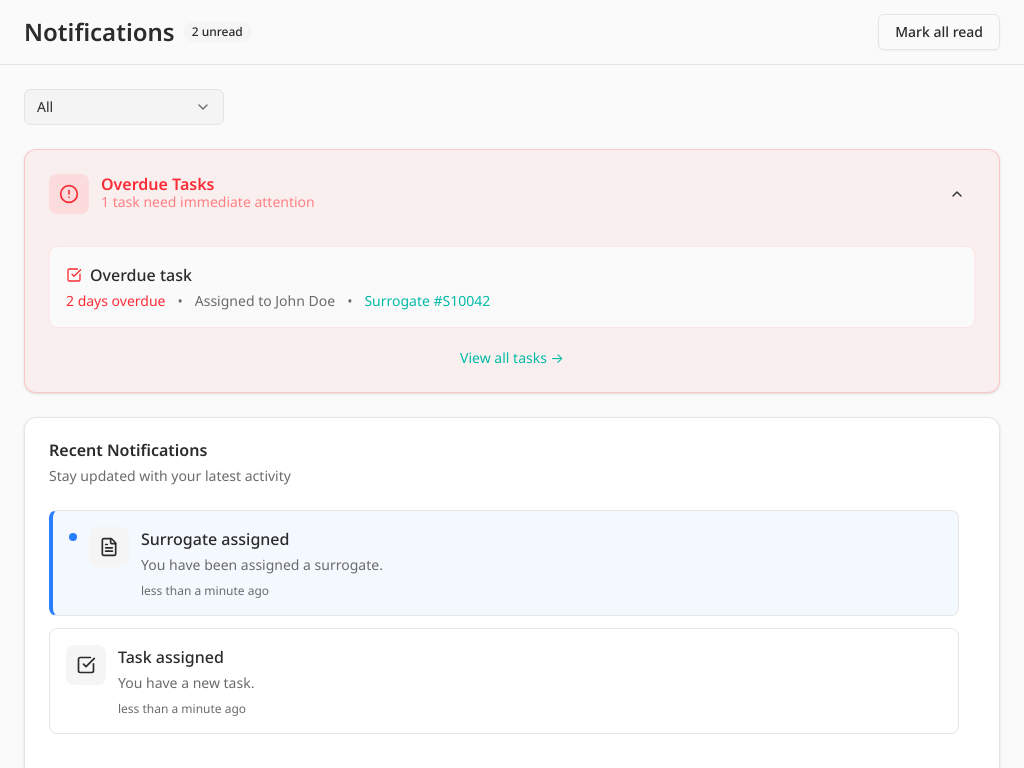
Scenario: NotificationsPage › applies match and appointment filters and restores All
Click the dropdown. click: click(124, 107)
box: [24,89,224,125]
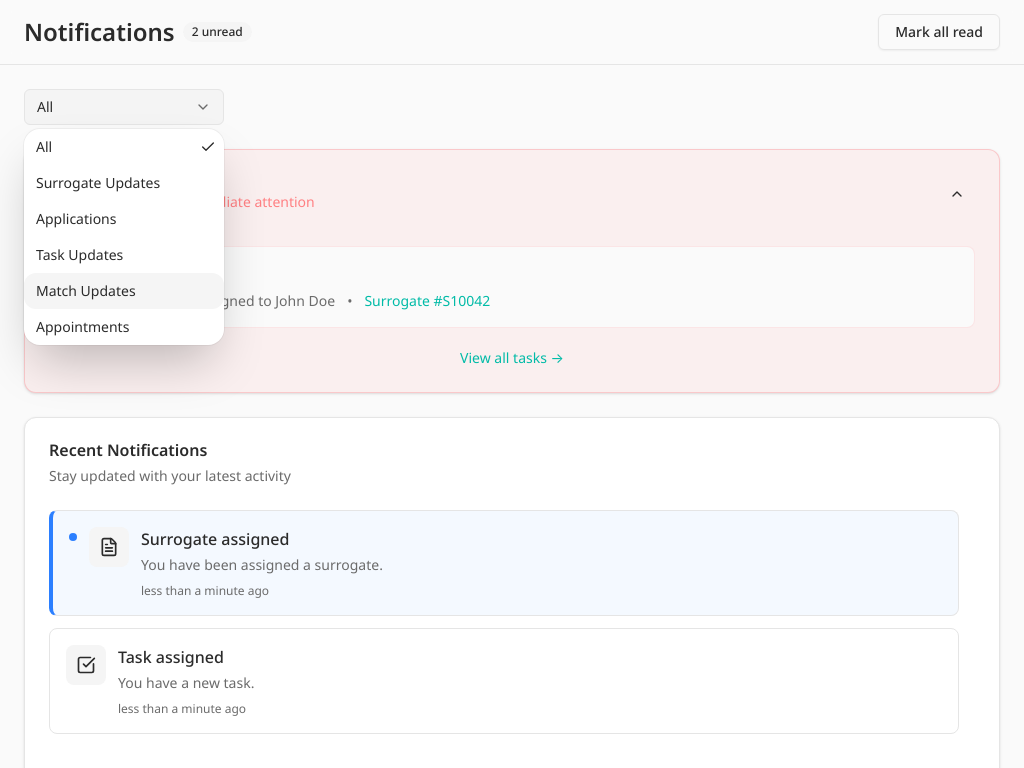
Click the option "Match Updates". click: click(124, 291)
box: [24,273,224,309]
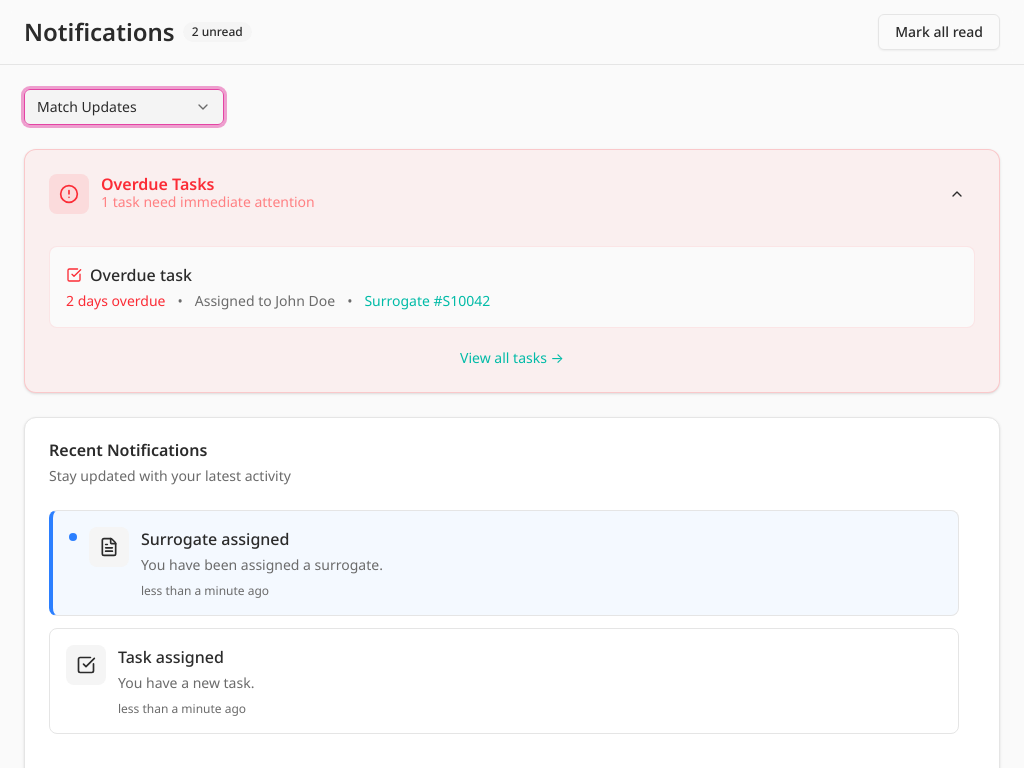
Now the dropdown shows "Match Updates"
Now the list is gone
Click the dropdown. click: click(124, 107)
box: [24,89,224,125]
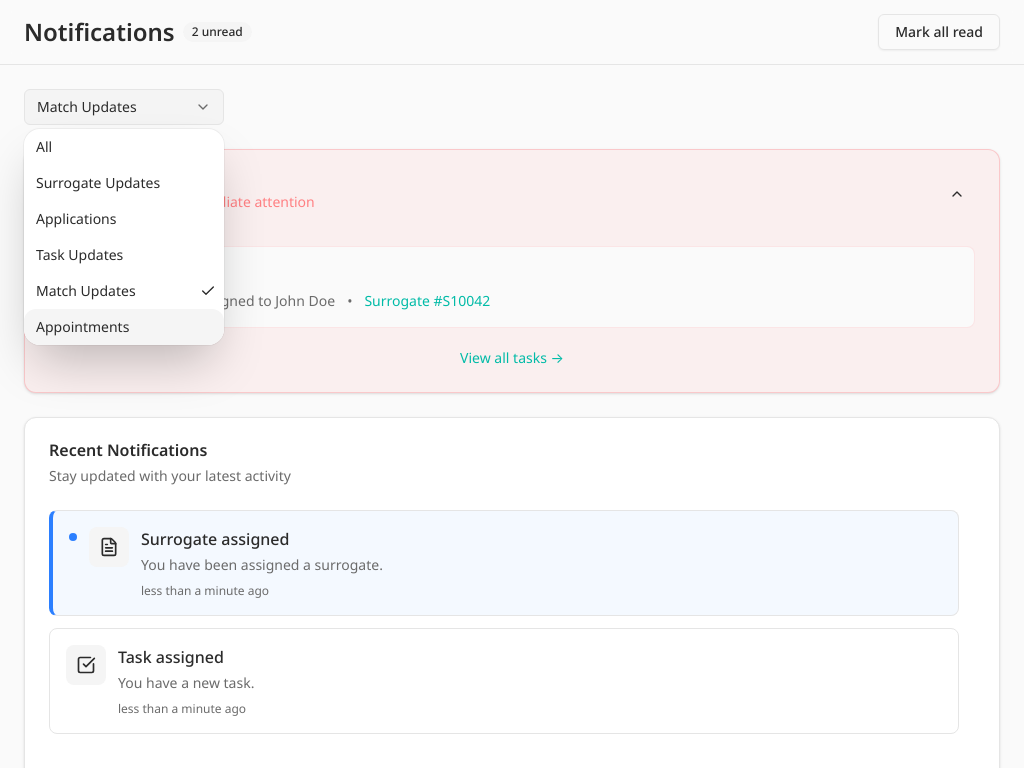
Click the option "Appointments". click: click(124, 327)
box: [24,309,224,345]
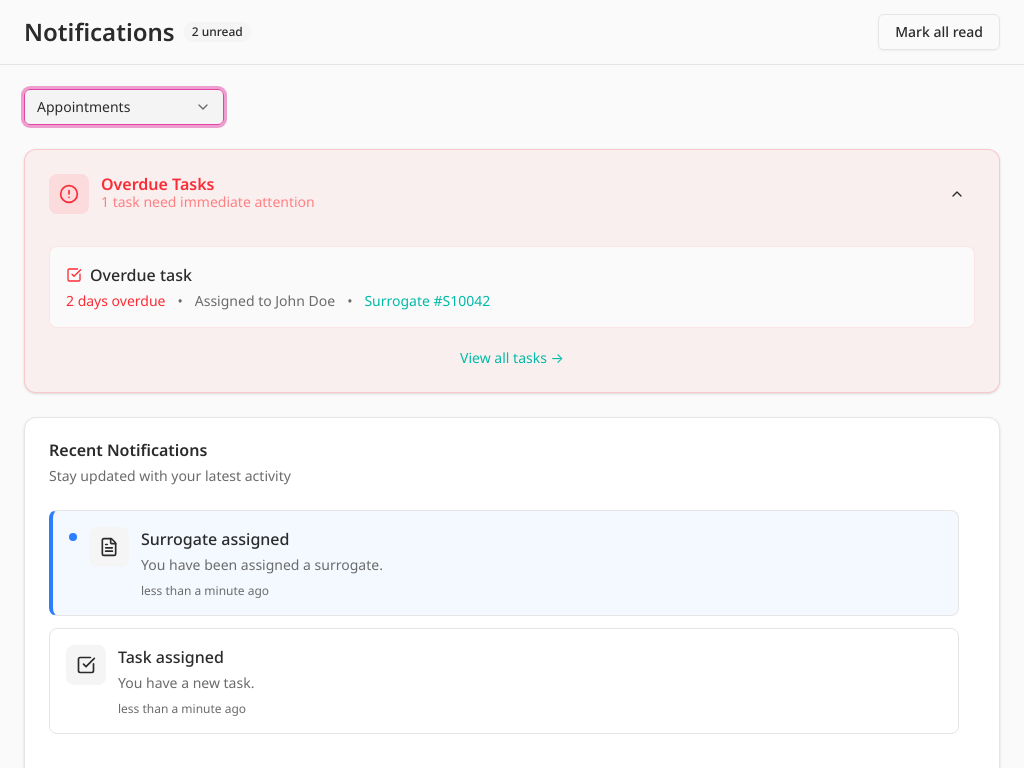
Now the dropdown shows "Appointments"
Now the list is gone
Click the dropdown. click: click(124, 107)
box: [24,89,224,125]
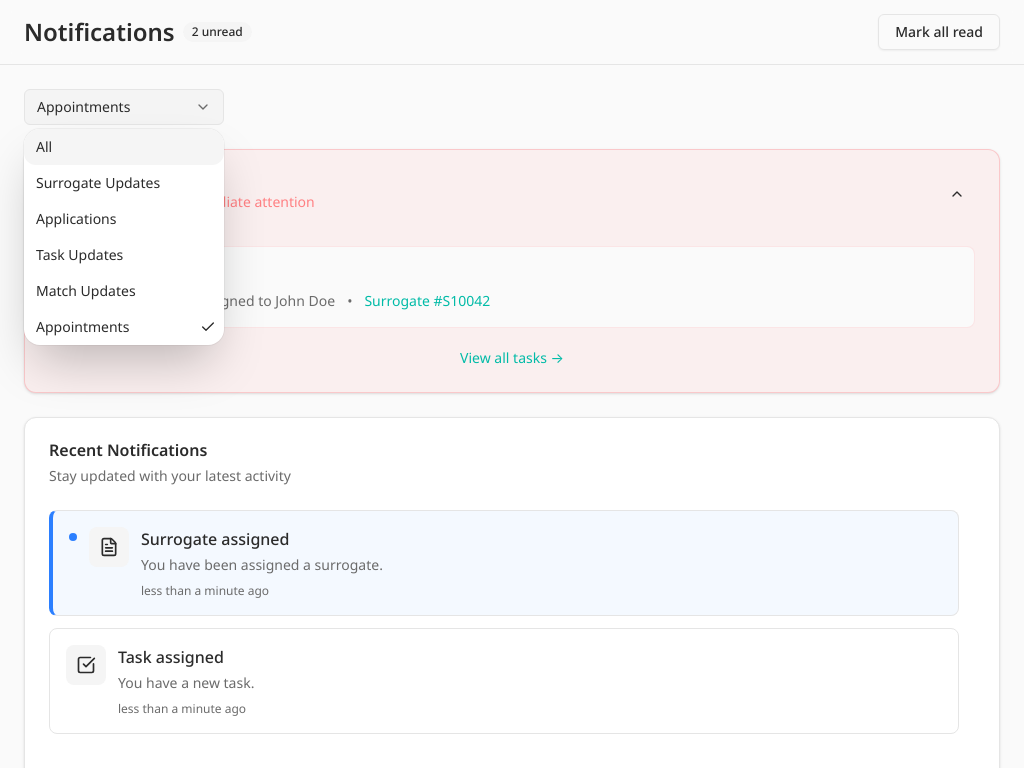
Click the option "All". click: click(124, 147)
box: [24,129,224,165]
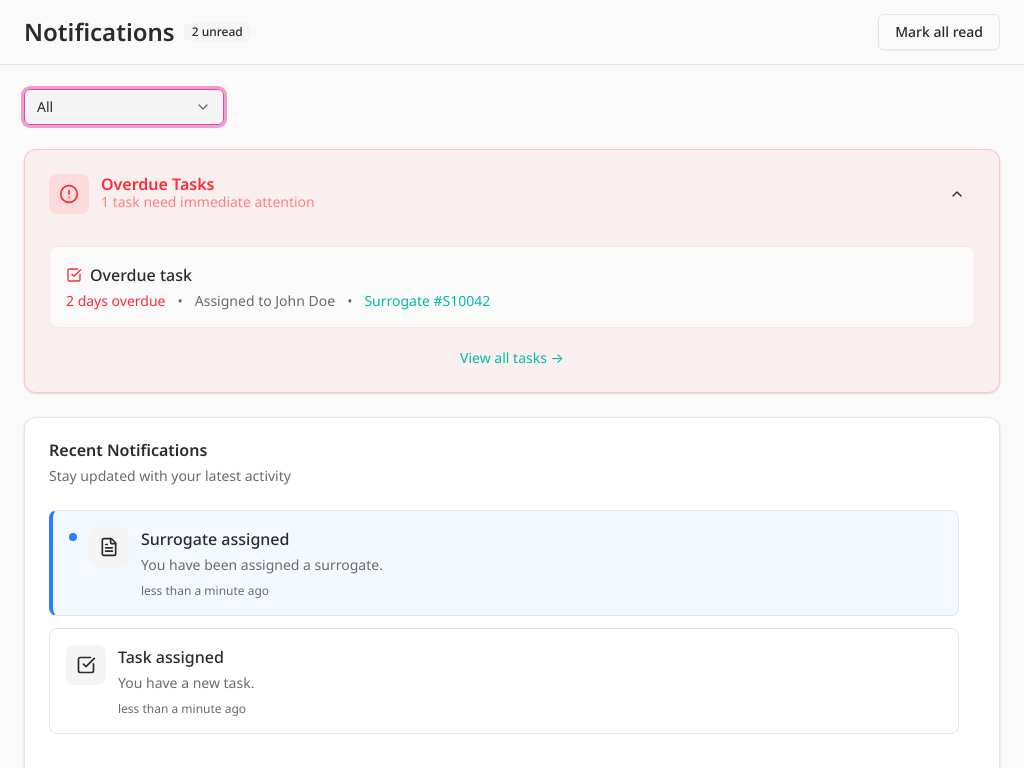
Now the dropdown shows "All", box [24,89,224,125]
